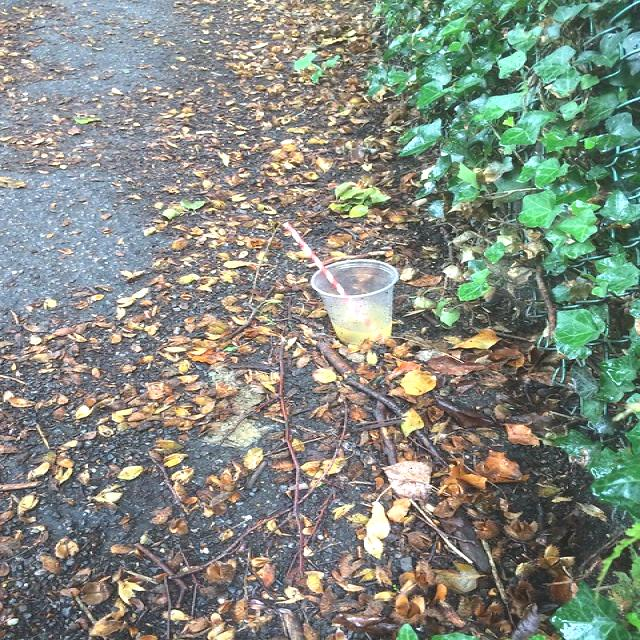Trash: (279, 218, 401, 348)
